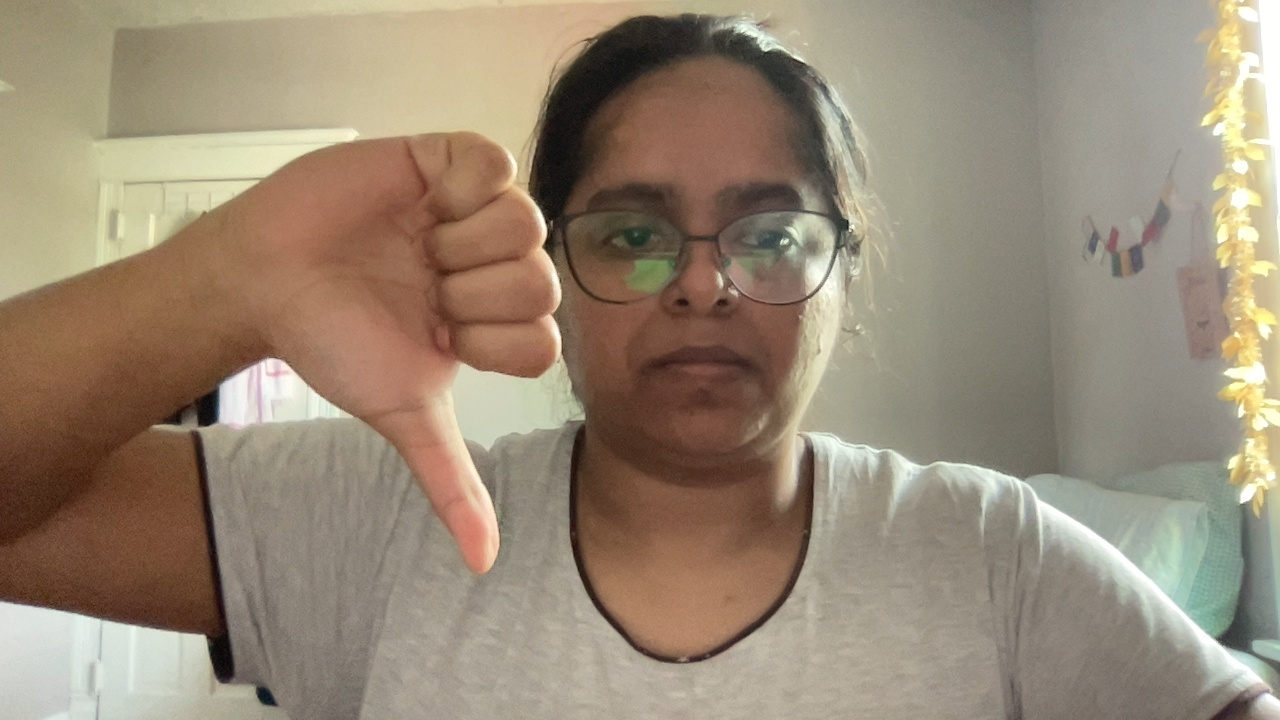ThumbsDown: (240, 131, 564, 576)
